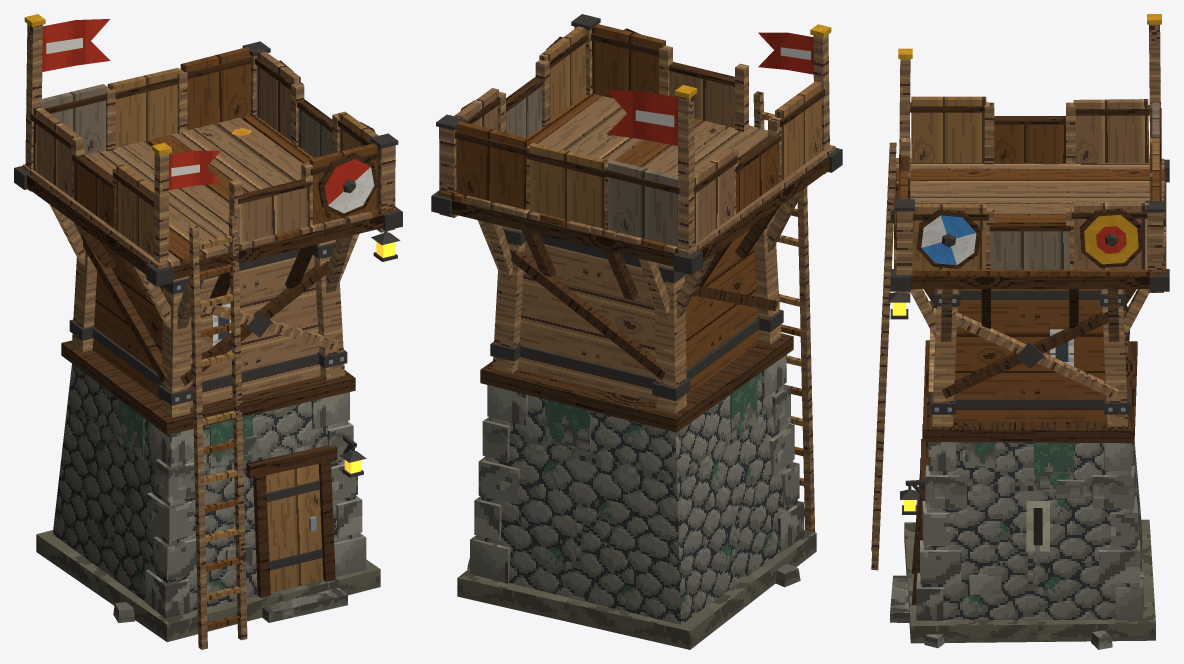
Rendered from defense_tower_2.glb.
The picture shows the model from 3 angles, left to right: view 1: azimuth 30°, elevation 25°; view 2: azimuth 150°, elevation 25°; view 3: azimuth 270°, elevation 25°; orthographic projection. The views are drawn at different scales.
Visible parts, largest first — view 1: defense_tower_2, sway_flag, sway_flag_2; view 2: defense_tower_2, sway_flag, sway_flag_2; view 3: defense_tower_2.
Boxes of the visible parts, x1,y1,x2,y2 form: defense_tower_2: (14, 14, 402, 649); sway_flag: (42, 19, 110, 71); sway_flag_2: (169, 150, 220, 190); defense_tower_2: (431, 14, 842, 649); sway_flag: (607, 90, 677, 145); sway_flag_2: (758, 32, 813, 74); defense_tower_2: (871, 14, 1169, 649).
Size of the model in its own units: 3.52 by 7.21 by 3.74.
30 materials, 23 textured.
